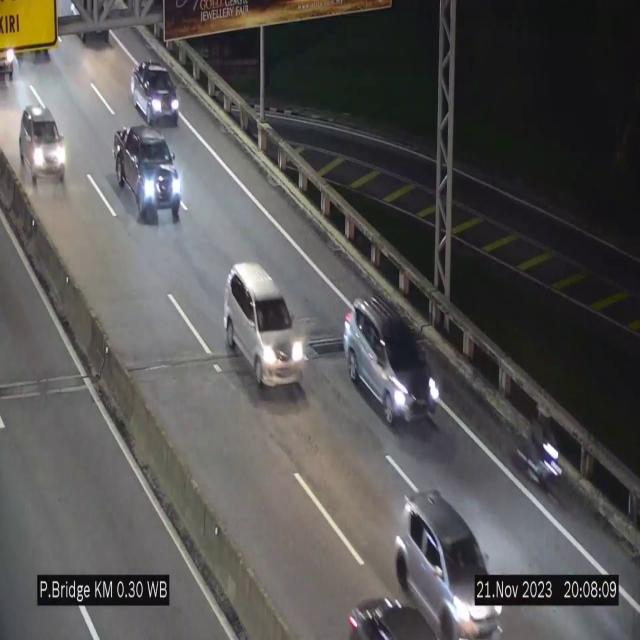Car: (386, 474, 500, 638), (344, 288, 442, 436), (224, 263, 300, 389), (114, 126, 183, 222), (338, 588, 440, 640), (18, 100, 70, 186), (131, 61, 180, 127)
Motorcycle: (529, 400, 563, 499)
